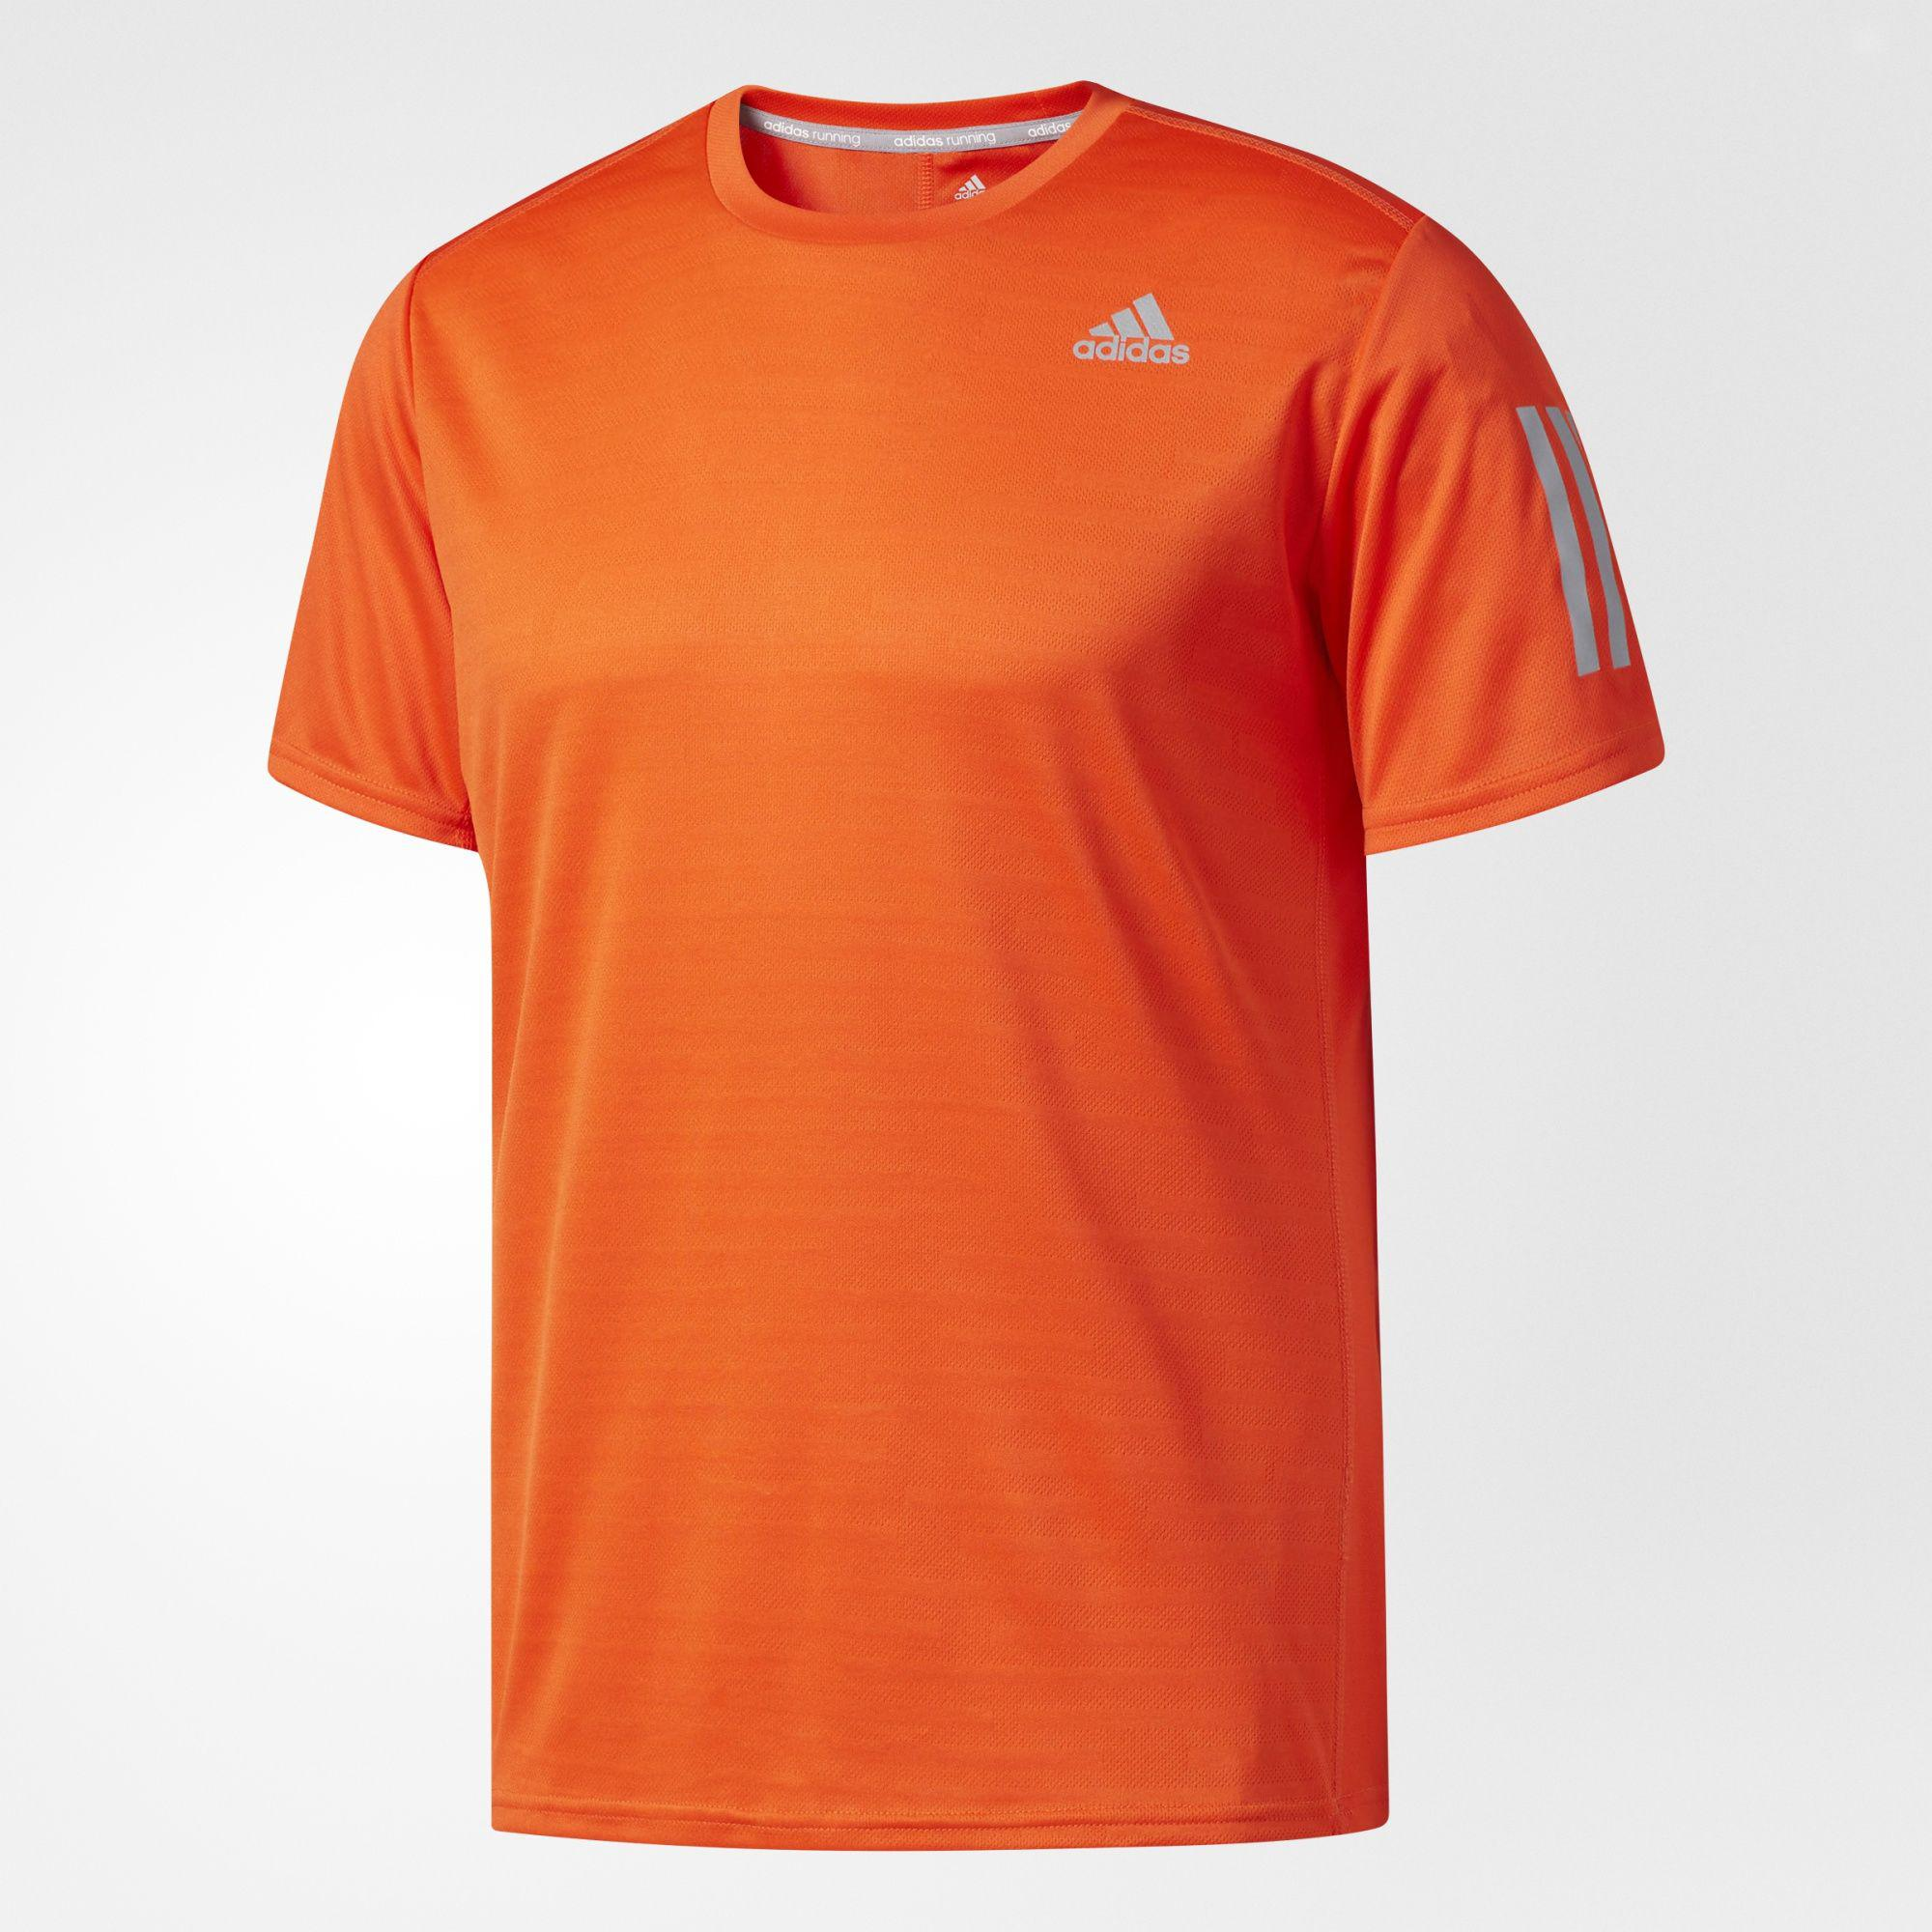teeshirt: (195, 58, 1684, 1858)
